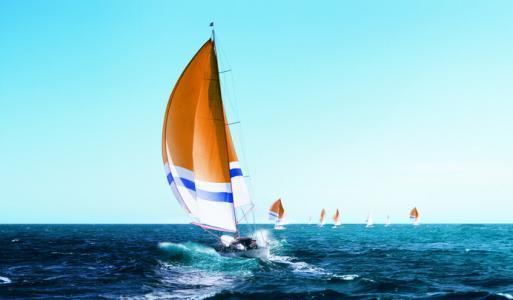fanchuan: (157, 20, 272, 263), (265, 198, 288, 232), (406, 206, 423, 228), (361, 211, 377, 231), (331, 208, 344, 229), (317, 207, 328, 228)
